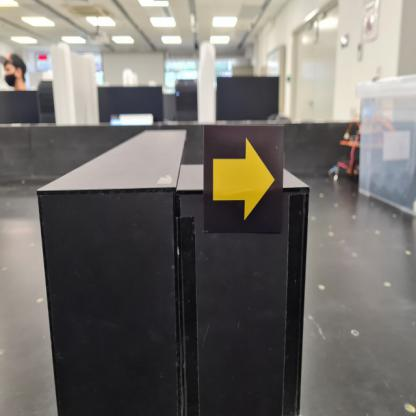right: (203, 122, 283, 235)
